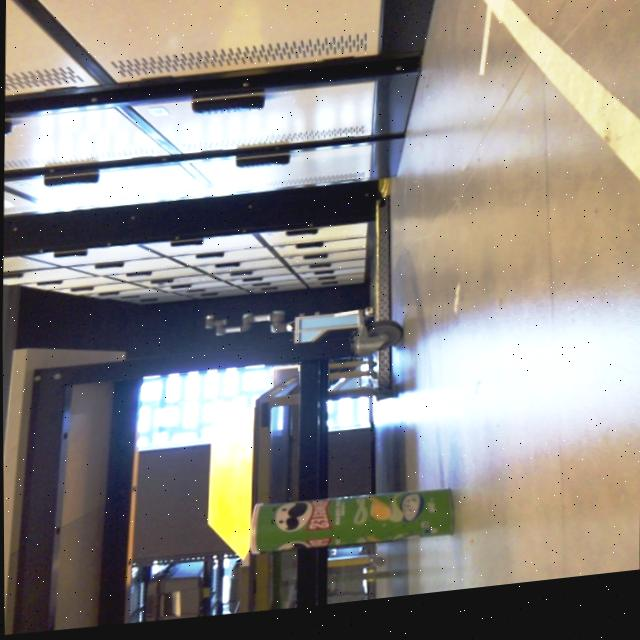greenpringles: (231, 474, 467, 585)
